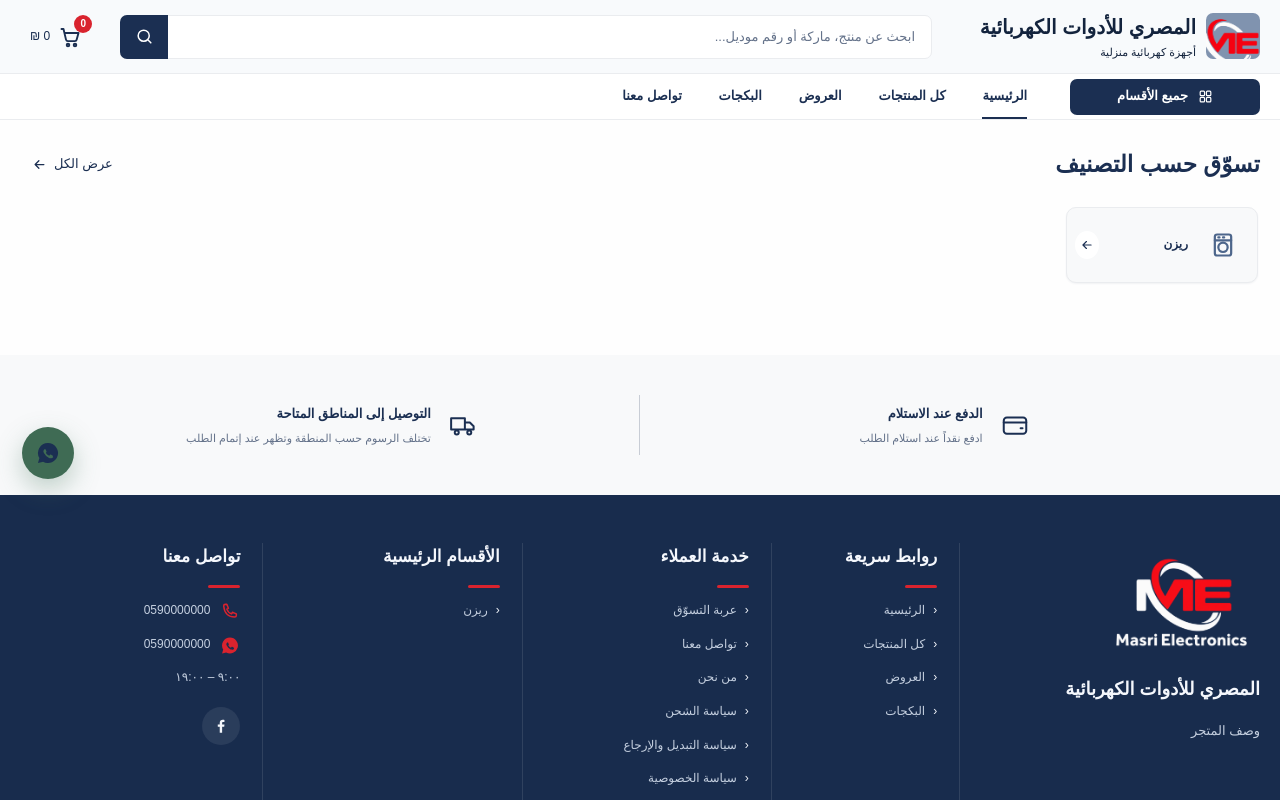
Scenario: drawers › shows an empty cart drawer before anything is added
Click the button named "عربة التسوّق" at (56, 36), box [20,14,92,58]
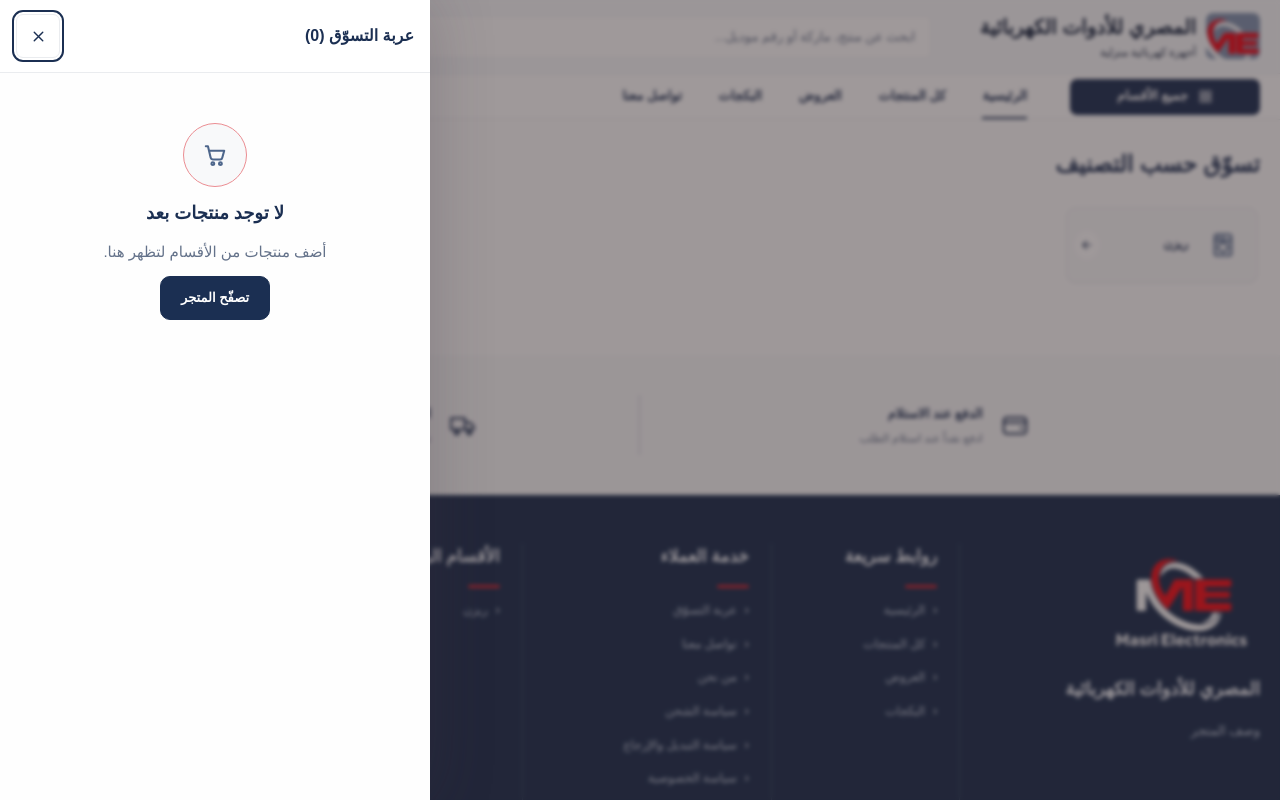
Expected: the text "لا توجد منتجات بعد" is shown, [146,199,284,228]
